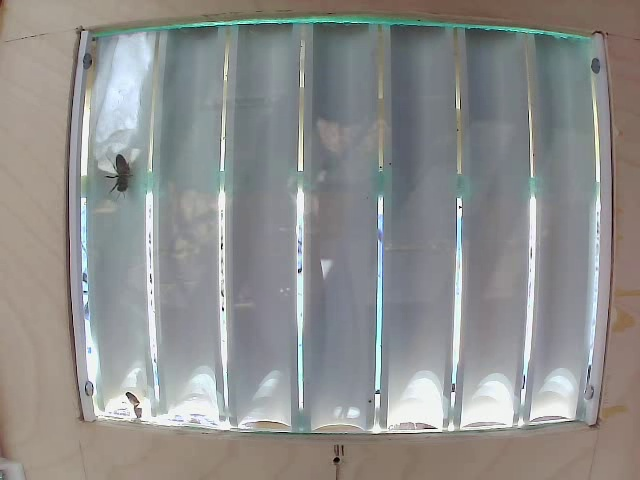bee: (106, 144, 138, 199)
